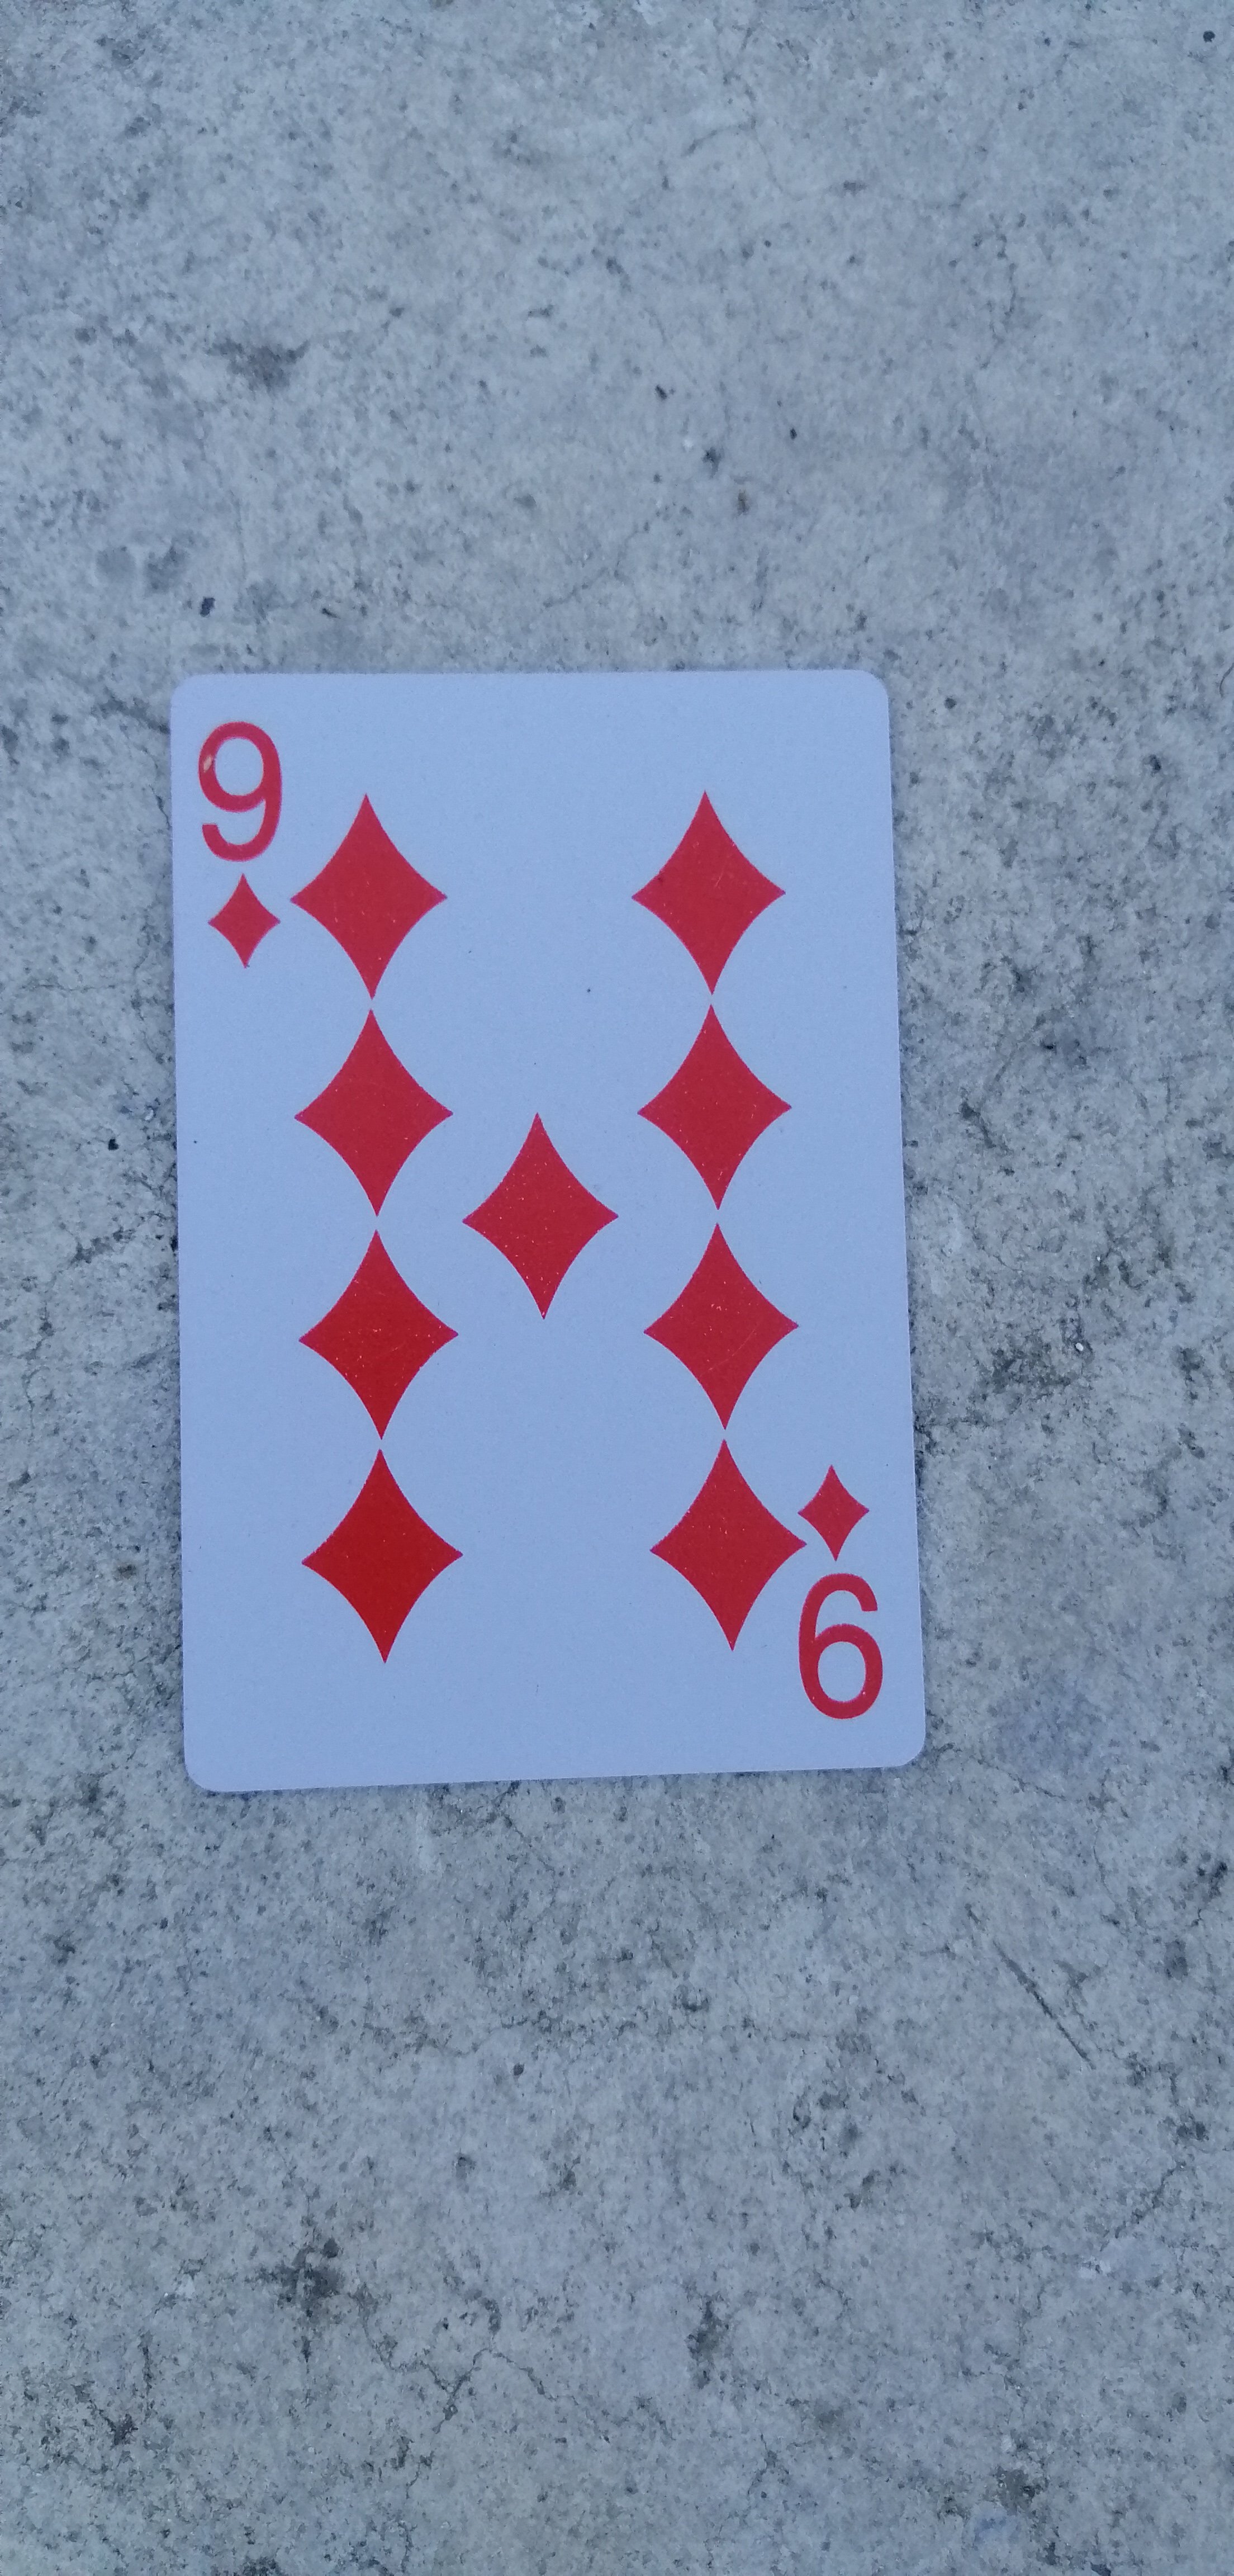nine: (163, 659, 955, 1784)
